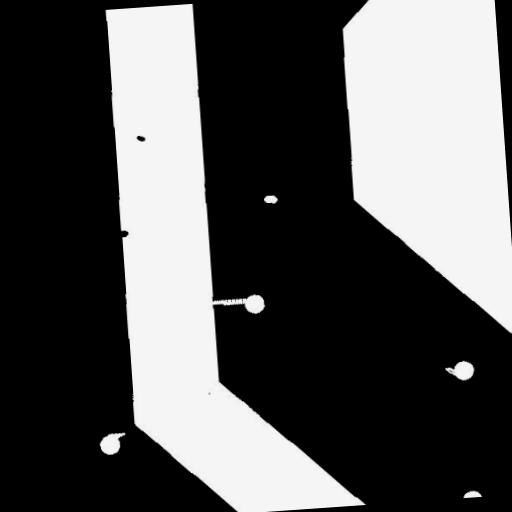copper: (128, 127, 152, 150)
mousebite: (100, 424, 134, 449), (436, 358, 467, 384)
open: (200, 290, 256, 314)
pin-hole: (255, 187, 286, 212)
spur: (108, 222, 136, 246)
